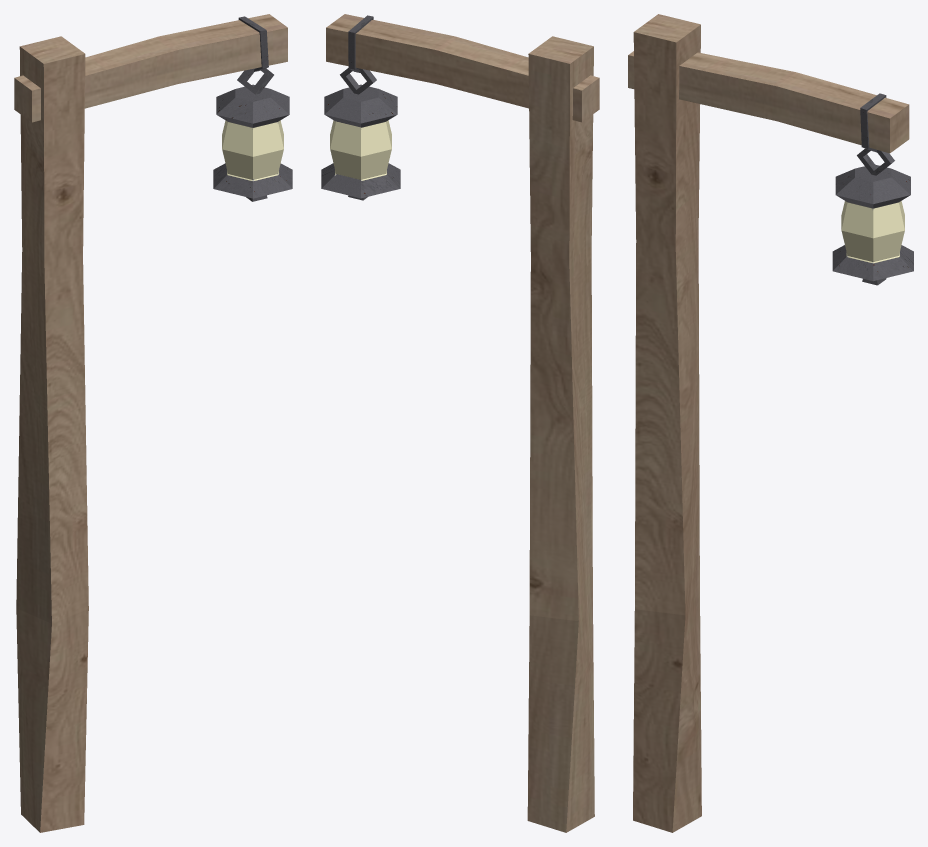
File: FRM0510006.fbx
3 renders of one model, left to right at view 1: azimuth 30°, elevation 25°; view 2: azimuth 150°, elevation 25°; view 3: azimuth 330°, elevation 25°, orthographic. The views are drawn at different scales.
Visible parts, largest first — view 1: smFRM0510006; view 2: smFRM0510006; view 3: smFRM0510006.
Part boxes in pixels (box(x1,y1,x2,y2)): smFRM0510006: box(14, 14, 292, 832); smFRM0510006: box(321, 14, 599, 832); smFRM0510006: box(628, 14, 913, 832).
Size of the model in its own units: 98.91 by 270 by 25.16.
Materials: 1 (1 with a texture image).
